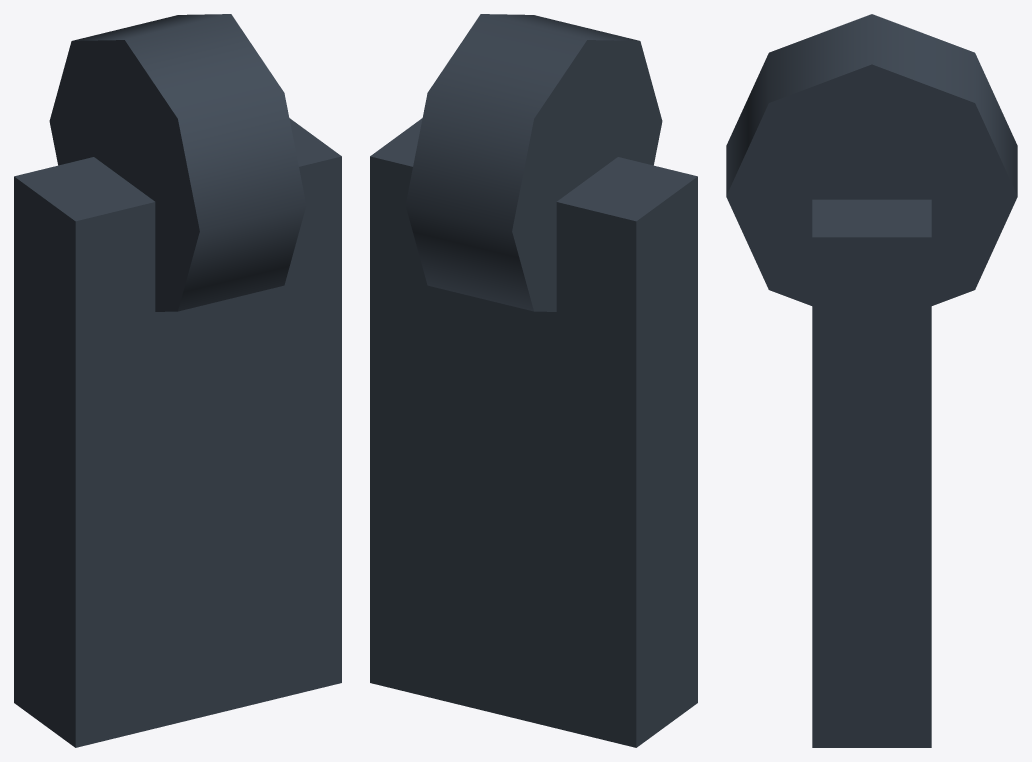
Rendered from grave_a.glb.
The picture shows the model from 3 angles, left to right: view 1: azimuth 30°, elevation 25°; view 2: azimuth 150°, elevation 25°; view 3: azimuth 270°, elevation 25°; orthographic projection. The views are drawn at different scales.
Size of the model in its own units: 0.45 by 1.08 by 0.44.
